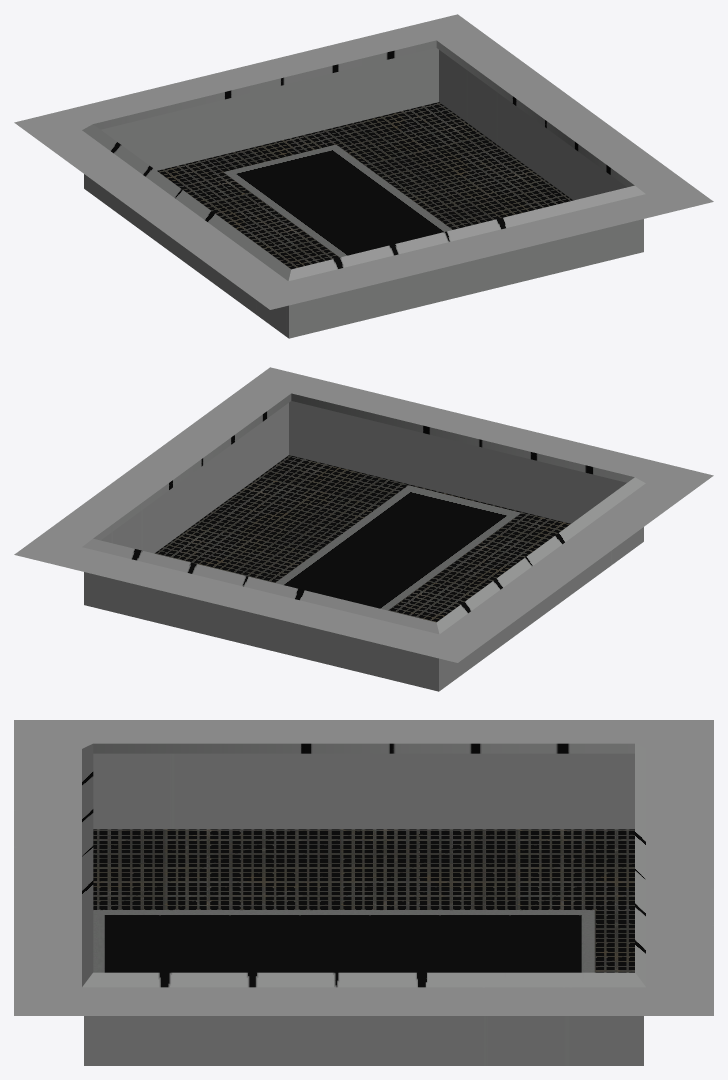
Rendered from plate.obj.
3 renders of one model, top to bottom at view 1: azimuth 30°, elevation 25°; view 2: azimuth 150°, elevation 25°; view 3: azimuth 270°, elevation 25°, orthographic. The views are drawn at different scales.
Visible parts, largest first — view 1: polymsh1; view 2: polymsh1; view 3: polymsh1.
Boxes of the visible parts, x1,y1,x2,y2 form: polymsh1: (14,14,713,338); polymsh1: (14,367,713,691); polymsh1: (14,720,713,1065).
Size of the model in its own units: 248 by 34.97 by 248.
